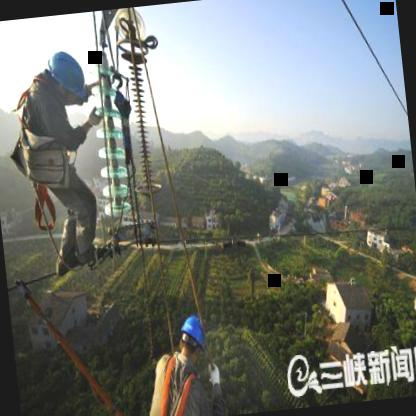helmet: (38, 46, 90, 110), (177, 313, 208, 364)
